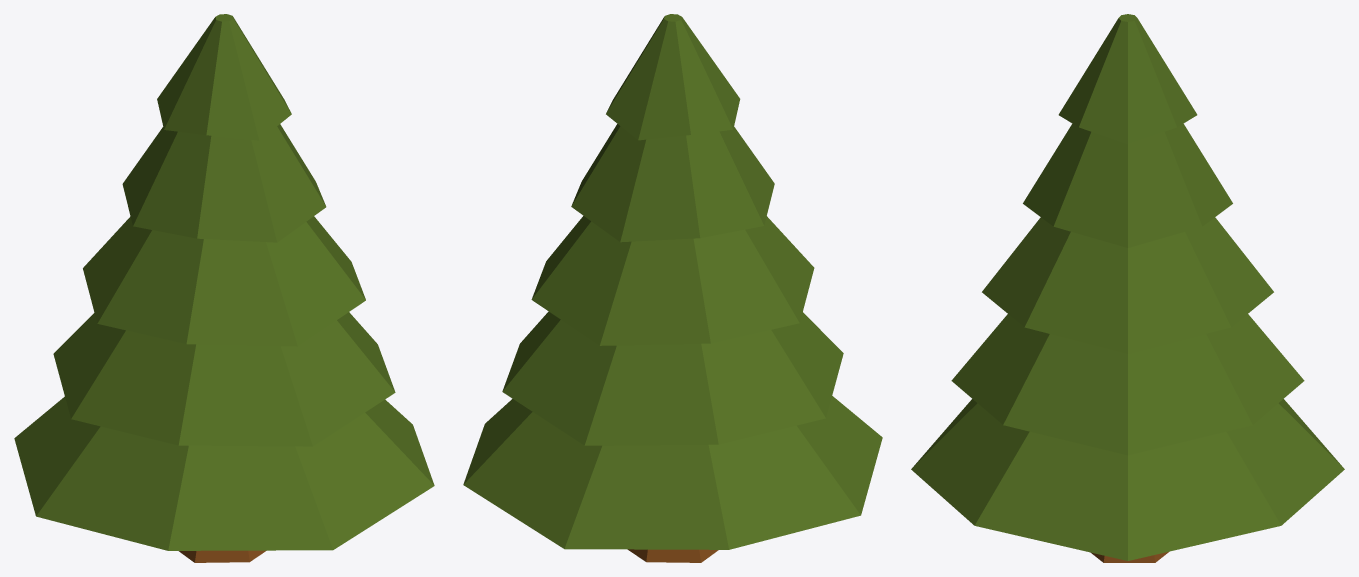
The model's file is Spruce.fbx.
3 views of the same model, side by side, from view 1: azimuth 30°, elevation 25°; view 2: azimuth 150°, elevation 25°; view 3: azimuth 270°, elevation 25° (orthographic).
Visible parts, largest first — view 1: Spruce; view 2: Spruce; view 3: Spruce.
Boxes of the visible parts, x1,y1,x2,y2 form: Spruce: (14,14,434,562); Spruce: (463,14,882,562); Spruce: (911,14,1344,562).
Size of the model in its own units: 1.5 by 2 by 1.5.
